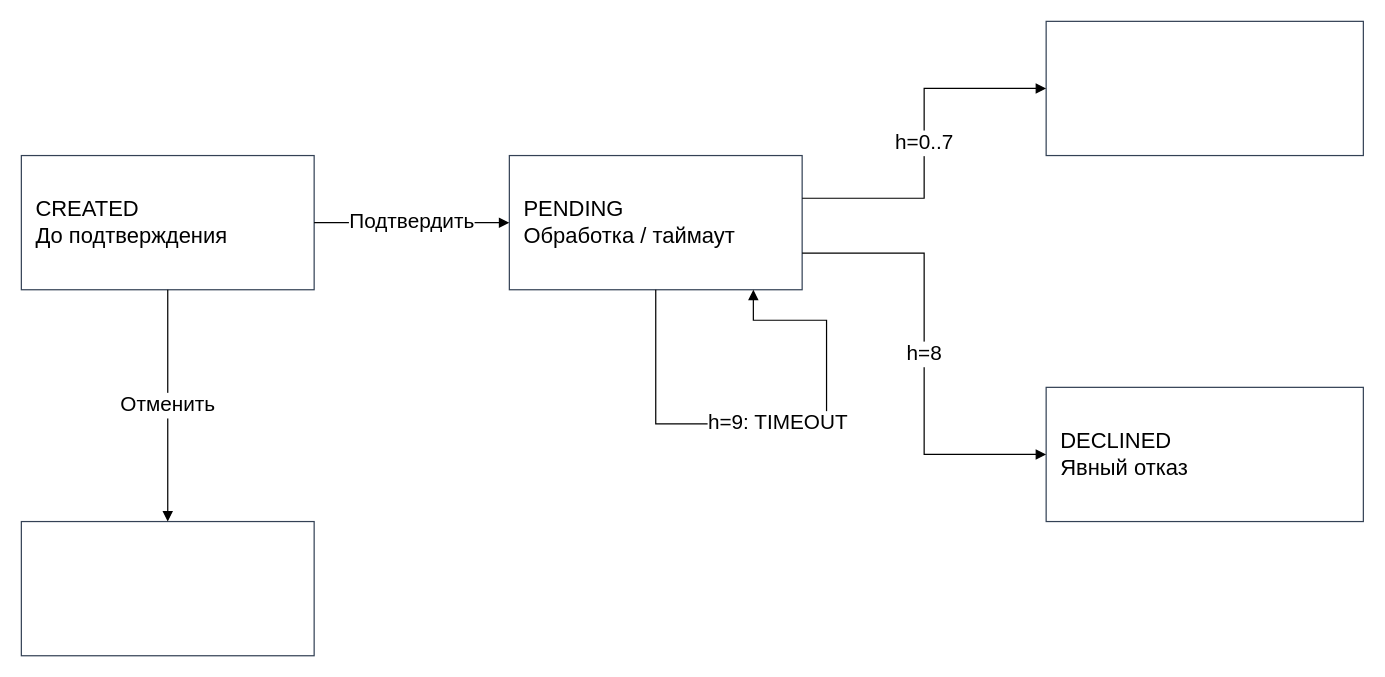
Image size: 1385x677. Some labels were removed from this diagram. The box of each missing label's shape, as (x1, y1, x2, y2) in pixels:
CANCELED Отмена до подтверждения: (20, 520, 314, 656)
SUCCESS Успешный результат: (1045, 20, 1363, 156)
